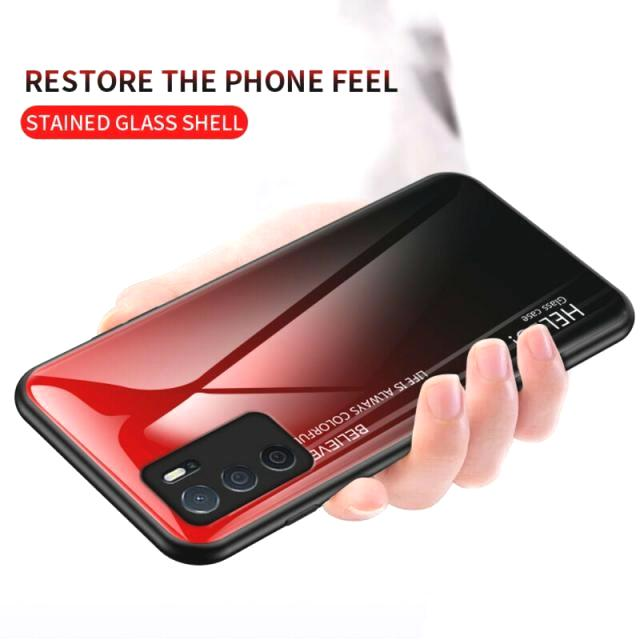lens: (139, 408, 319, 527)
